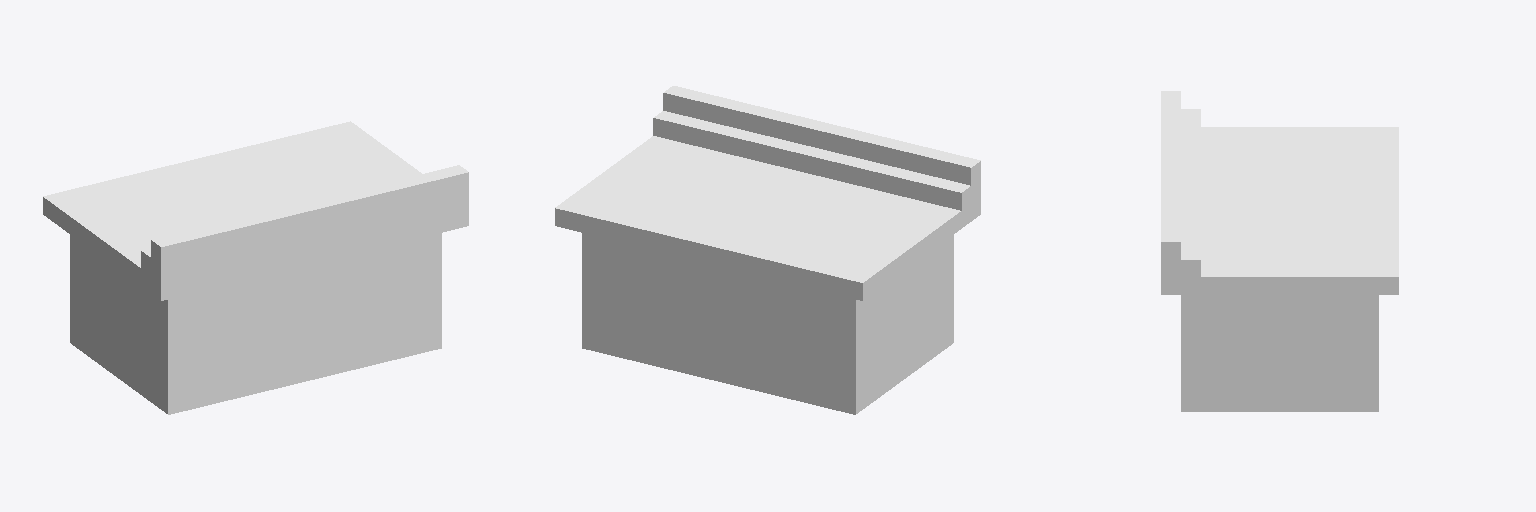
The model's file is Restaurant.obj.
3 views of the same model, side by side, from view 1: azimuth 30°, elevation 25°; view 2: azimuth 150°, elevation 25°; view 3: azimuth 270°, elevation 25° (orthographic).
Size of the model in its own units: 18 by 10 by 12.